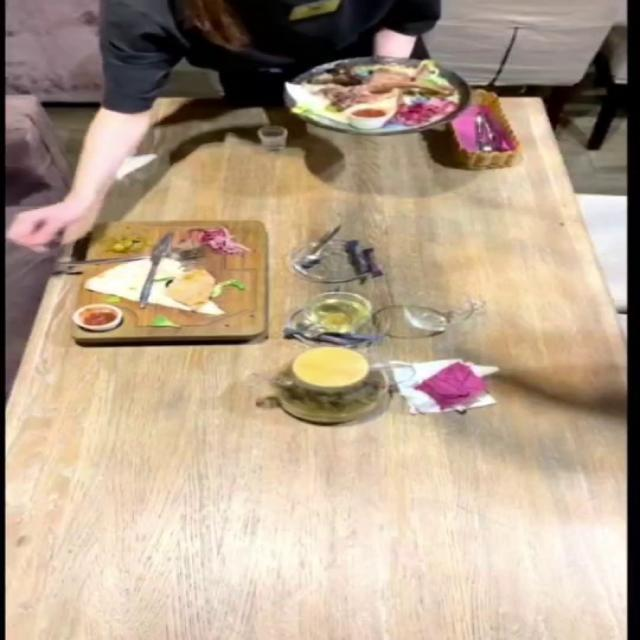meat: (65, 208, 277, 352), (287, 59, 462, 131)
tea: (251, 342, 440, 424)
